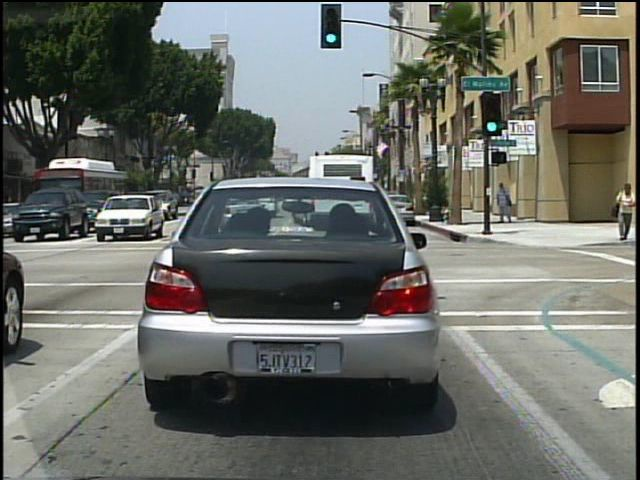person: (609, 182, 636, 242), (494, 181, 514, 225)
